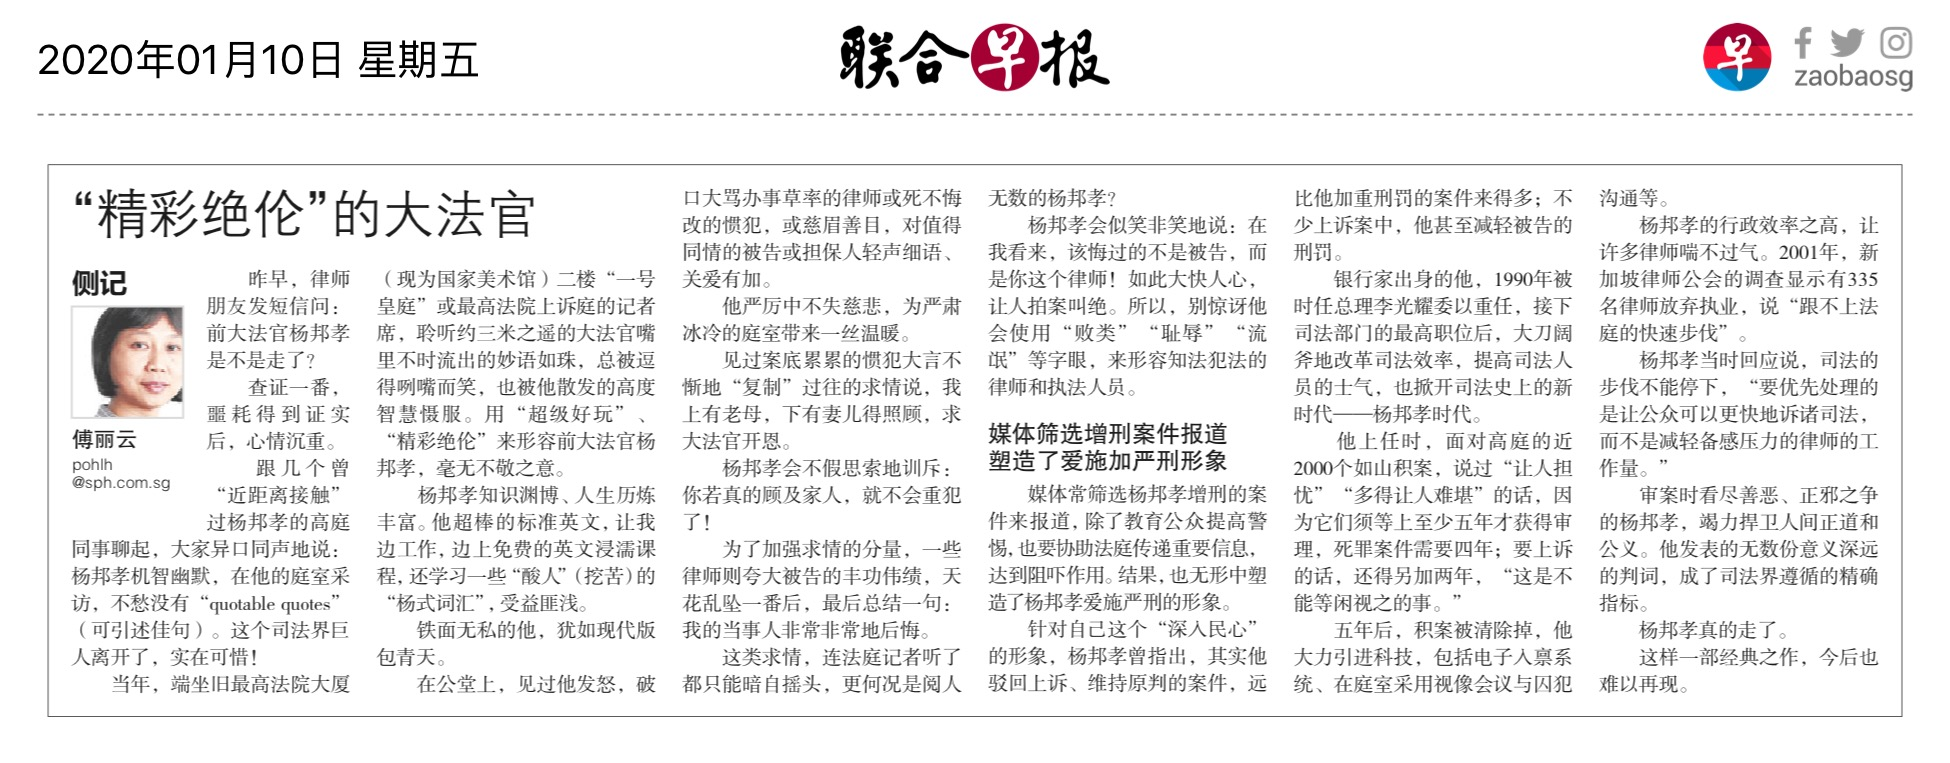heading: (68, 174, 548, 249)
